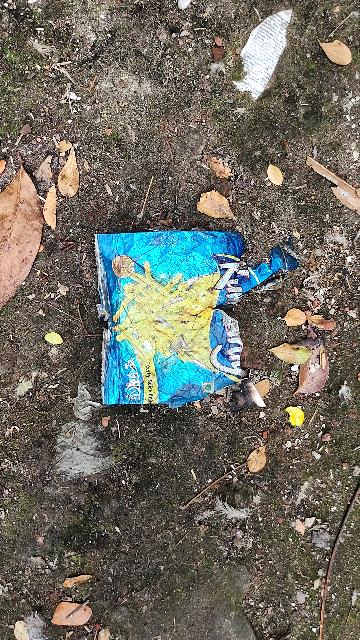packet: (92, 215, 259, 418)
